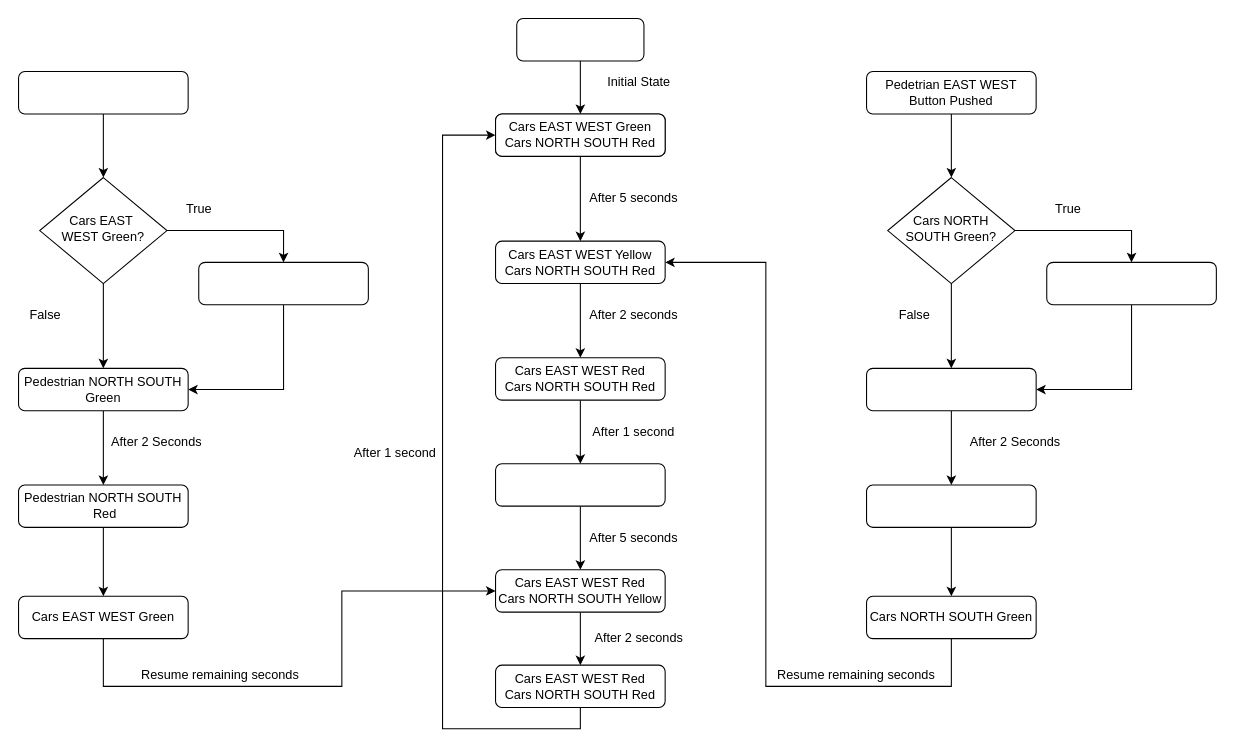
The diagram is 1235 pixels wide and 756 high, and some of its shapes have lost their labels. The box of each missing label's shape, as (x1, y1, x2, y2) in pixels:
Cars EAST WEST Red Cars NORTH SOUTH Green: (494, 463, 665, 506)
Interrupt Cars EAST WEST and switch it to Red: (198, 261, 368, 305)
Interrupt Cars NORTH SOUTH and switch it to Red: (1046, 261, 1216, 305)
Pedestrian EAST WEST Green: (865, 367, 1036, 411)
Pedestrian EAST WEST Red: (865, 484, 1036, 527)
Pedetrian NORTH SOUTH Button Pushed: (17, 70, 188, 114)
Start: (516, 17, 644, 61)
